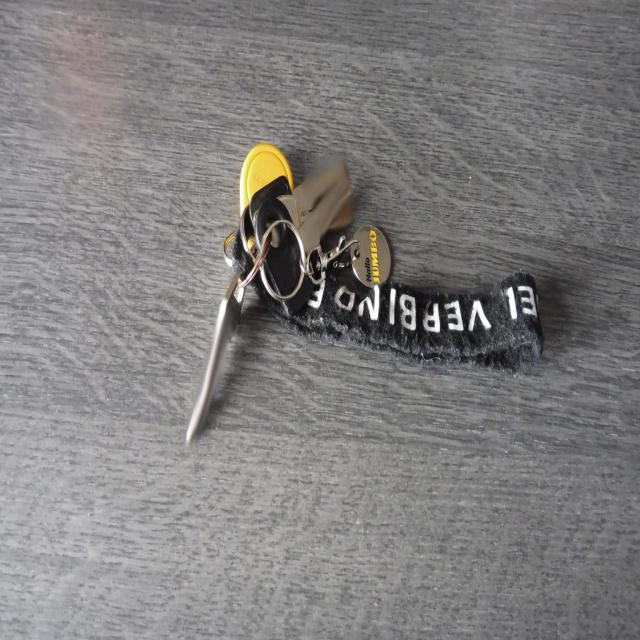Frontdoor keys: (251, 153, 359, 315), (178, 262, 256, 462)
